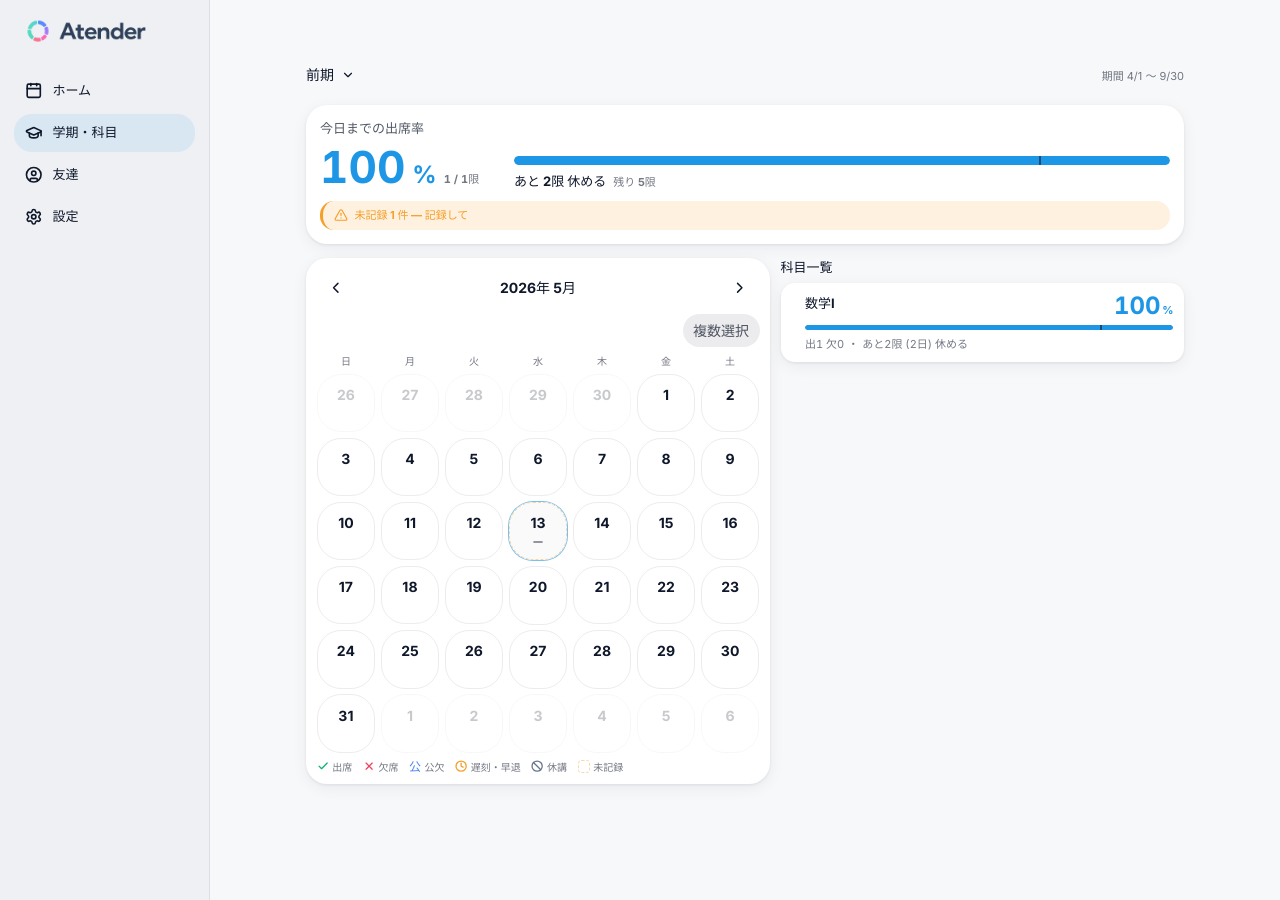
[B21 AW6/AW7] 学期 (/semester) の日別シートと一括編集 › AW7: 複数選択 → 一括編集に終日予定の追加が無く、出欠一括・休講は残る
Click the button "複数選択" at (721,330), box [682,314,760,347]
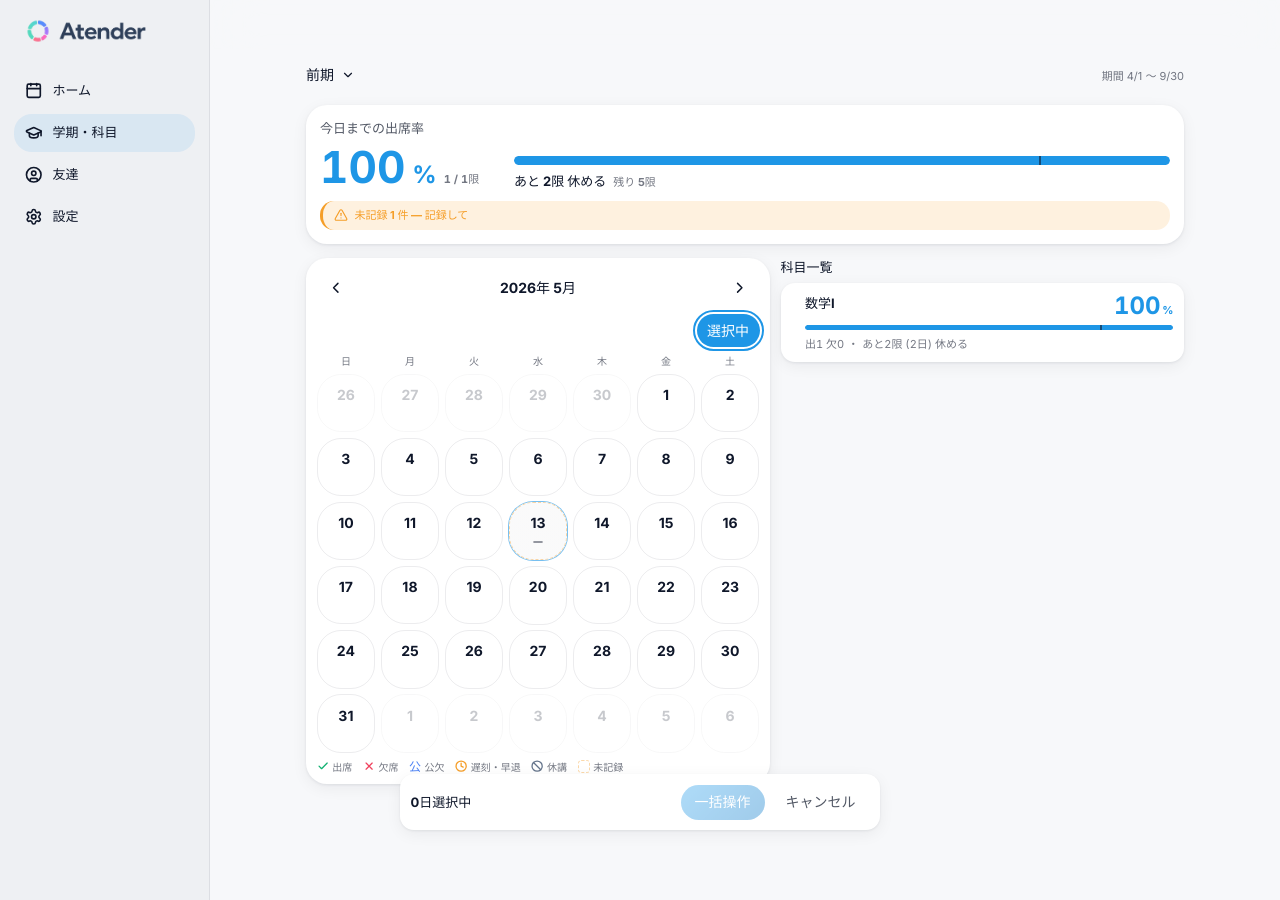
Click the button named "5月13日" at (538,531), box [509,502,567,560]
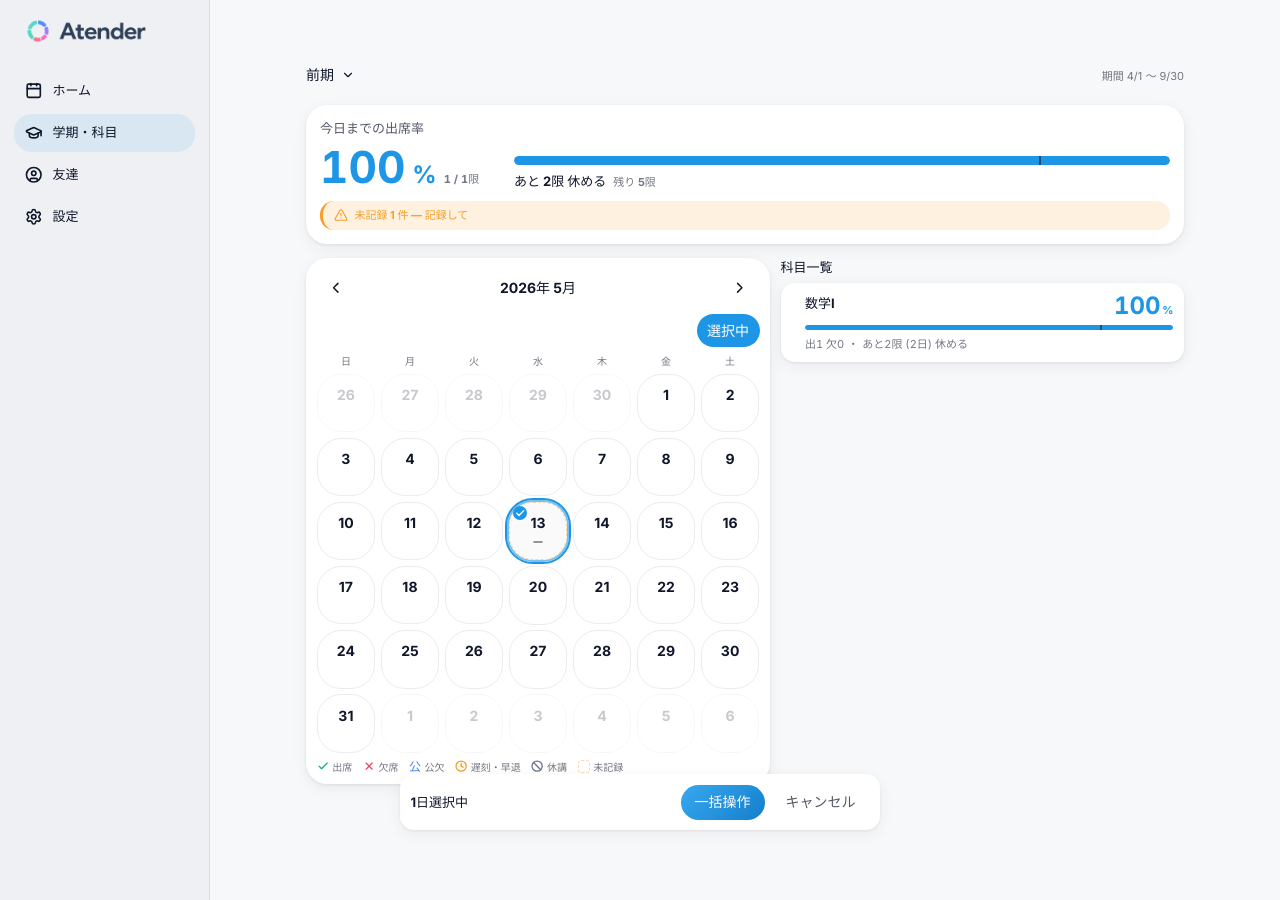
Click the button "一括操作" at (722,802), box [680,784,764,820]
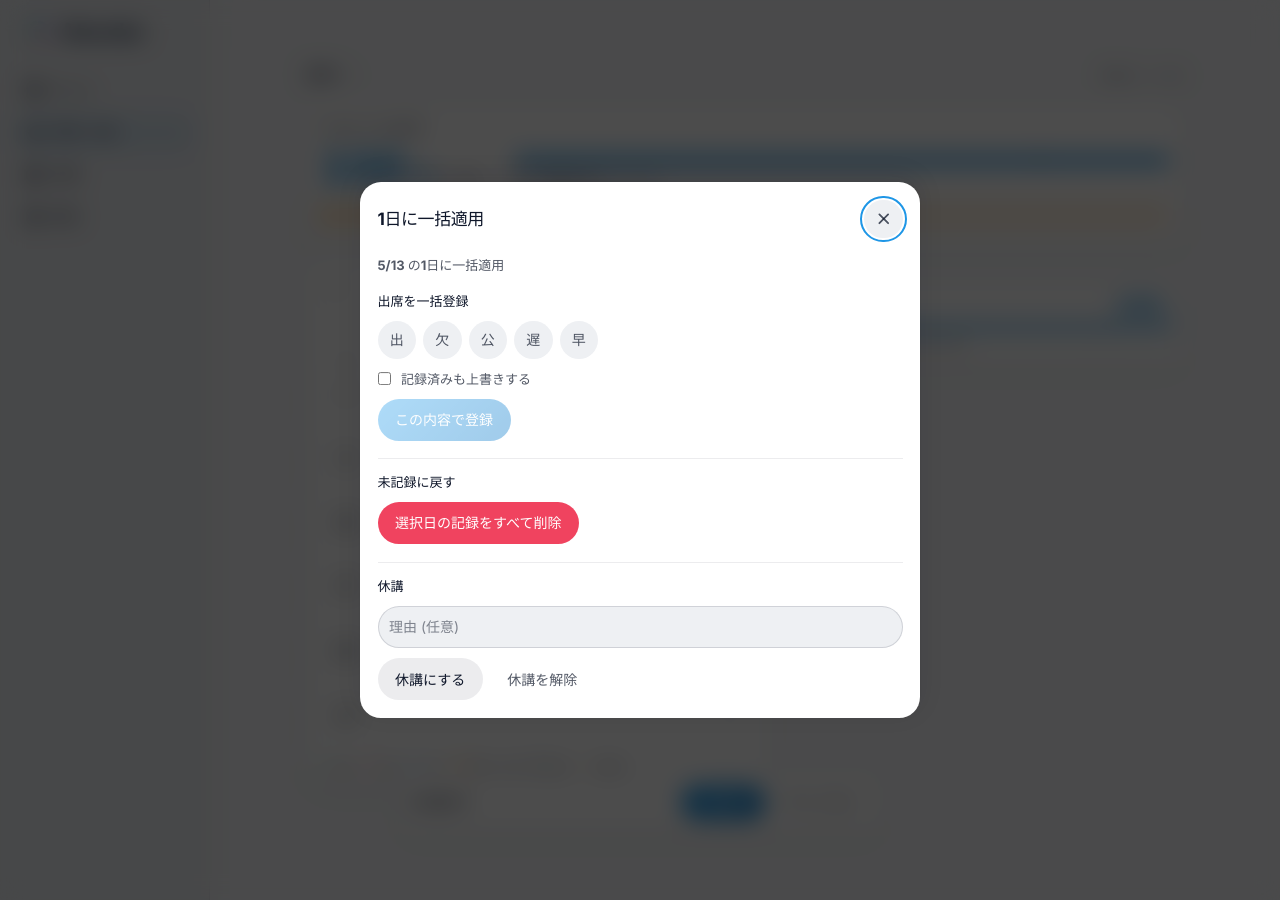
Check: the button "この内容で登録" is shown, box [378,399,510,441]
Check: the button "欠" is shown, box [423,321,462,359]
